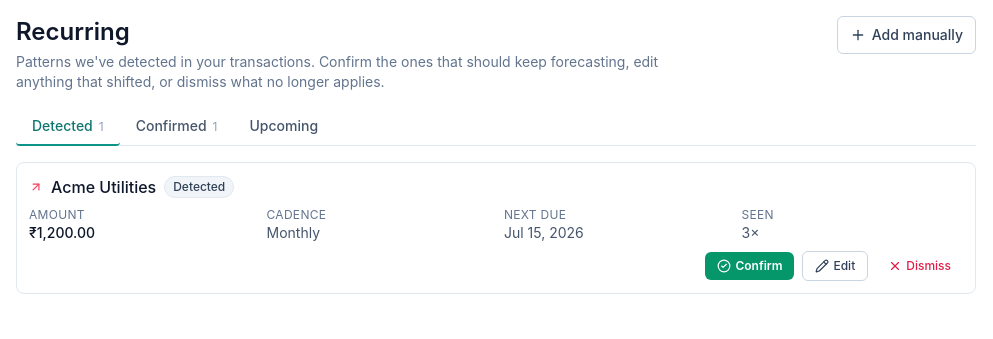
Test: RecurringPage › Confirm button shown on detected, hidden on confirmed locked rows
Expected: the button with test id "recurring-confirm-1" is shown, [705,252,794,280]
// Confirmed tab: a locked row offers no Confirm.
Click the button with test id "recurring-tab-confirmed".
click(177, 127)  # box [120,108,234,146]
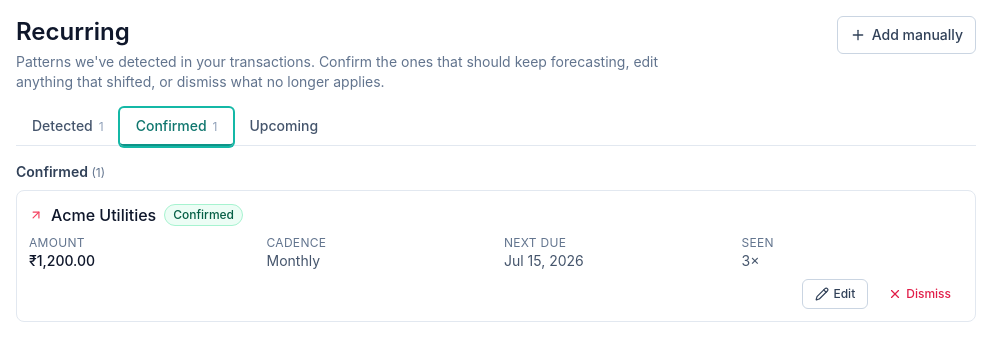
Now the list item with test id "recurring-row-3" is shown, box [16,190,976,322]
